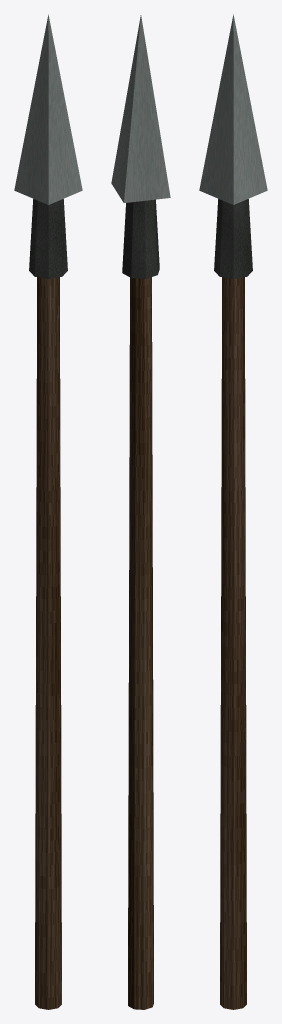
File: lanca.glb
3 views of the same model, side by side, from view 1: azimuth 90°, elevation 25°; view 2: azimuth 150°, elevation 25°; view 3: azimuth 270°, elevation 25° (orthographic).
Visible parts, largest first — view 1: lanca_mesh; view 2: lanca_mesh; view 3: lanca_mesh.
Part boxes in pixels (x1,y1,x2,y2): lanca_mesh: (14, 14, 82, 1009); lanca_mesh: (111, 15, 170, 1009); lanca_mesh: (199, 14, 267, 1009).
Size of the model in its own units: 0.116 by 1.85 by 0.116.
Materials: 3 (3 with a texture image).
